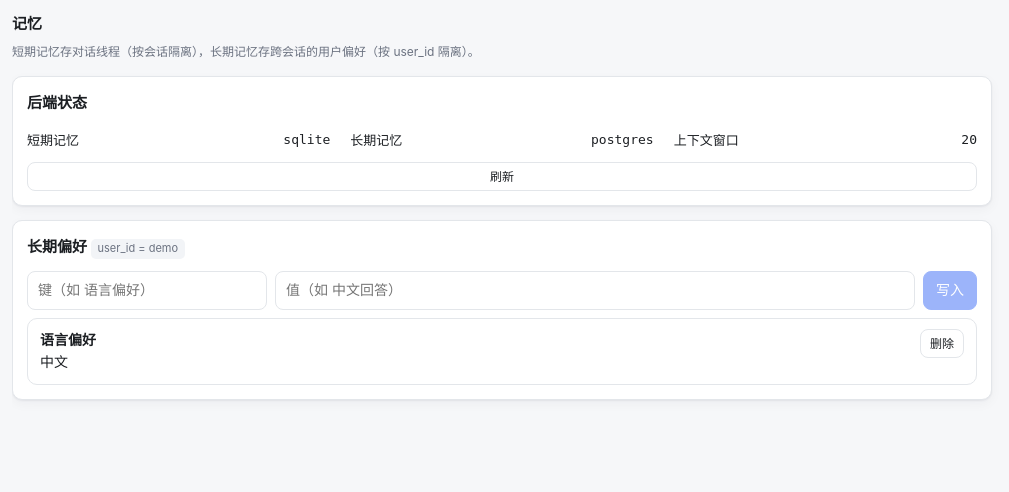
Test: 记忆页：展示后端状态，写入与删除长期偏好
Expected: the text "语言偏好" is shown, [40,331,96,348]
Type "城市" into the field with placeholder "键（如 语言偏好）" at (147,291), box [27,271,267,310]
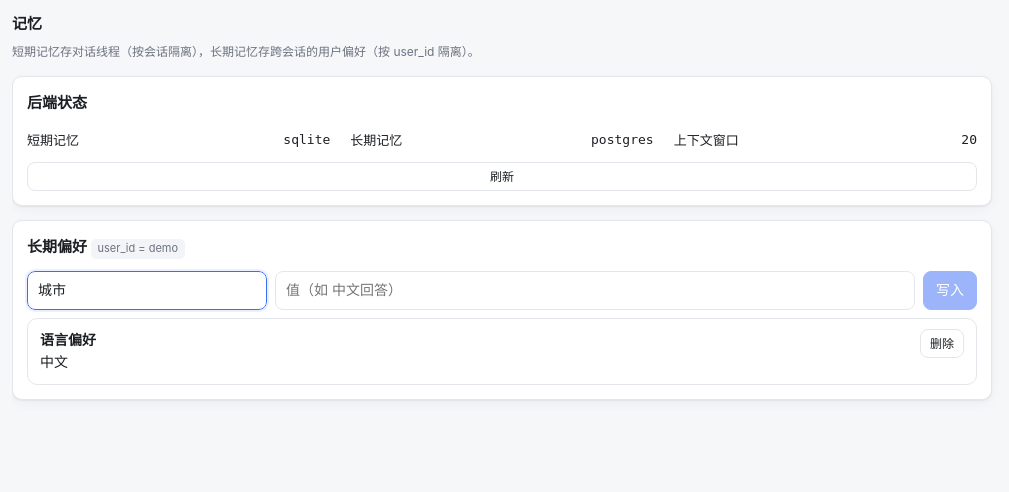
Type "武汉" into the field with placeholder "值（如 中文回答）" at (595,291), box [275,271,915,310]
Then press Enter
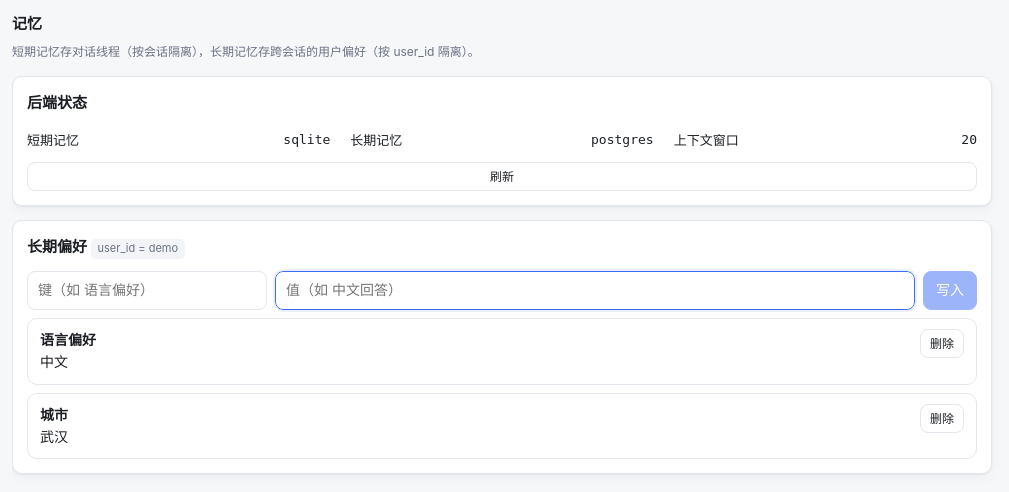
Now the text "城市" is shown, box [40,406,68,422]
